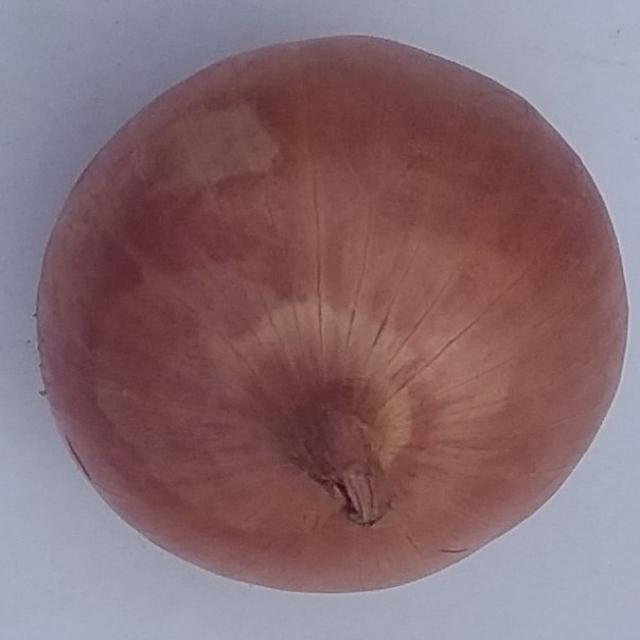onion: (33, 31, 631, 595)
